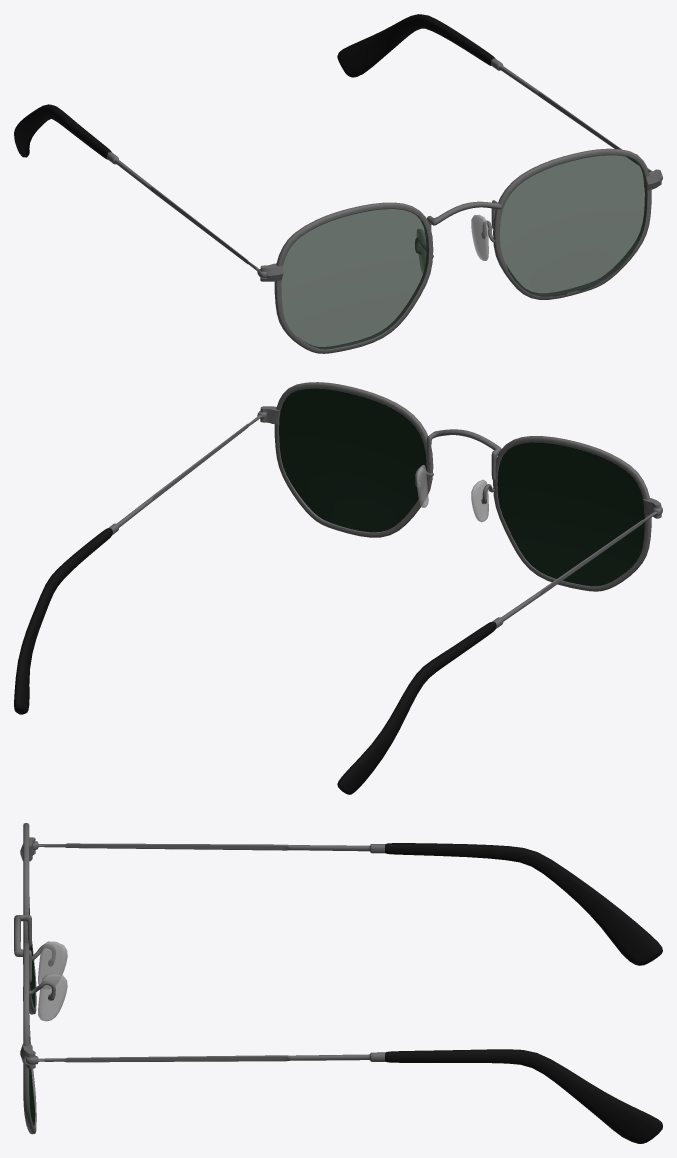
The model's file is Conan Glasses.glb.
The picture shows the model from 3 angles, top to bottom: view 1: azimuth 30°, elevation 25°; view 2: azimuth 150°, elevation 25°; view 3: azimuth 270°, elevation 25°; orthographic projection. The views are drawn at different scales.
Parts seen in each view (by area): view 1: 1; view 2: 1; view 3: 1.
Part boxes in pixels (x1,y1,x2,y2): 1: (14, 14, 662, 353); 1: (14, 382, 662, 794); 1: (14, 823, 662, 1143).
Bounding box in the file's own units: 0.1543 × 0.0524 × 0.1934.
Materials: 2 (2 with a texture image).
